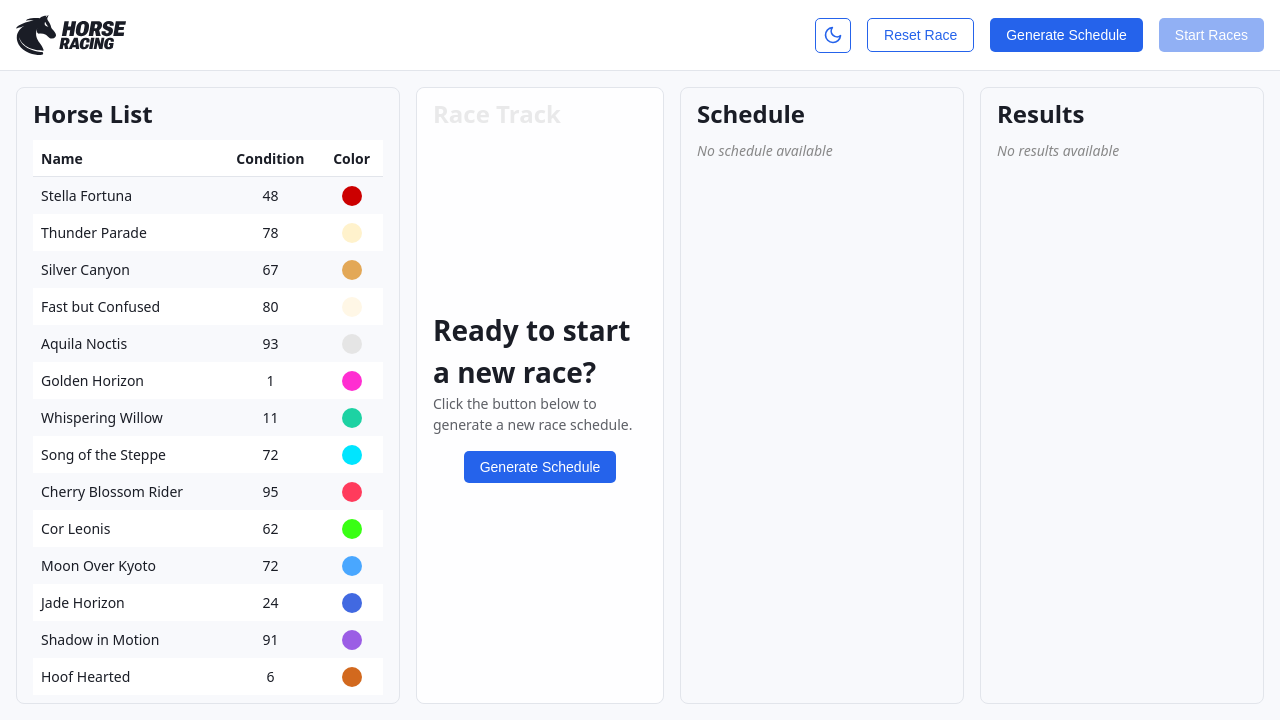
Schedule Generation › generates schedule when clicking generate button
The image size is (1280, 720).
Click the 1st button "Generate Schedule" at coordinates (1067, 35), box [990, 18, 1143, 52]
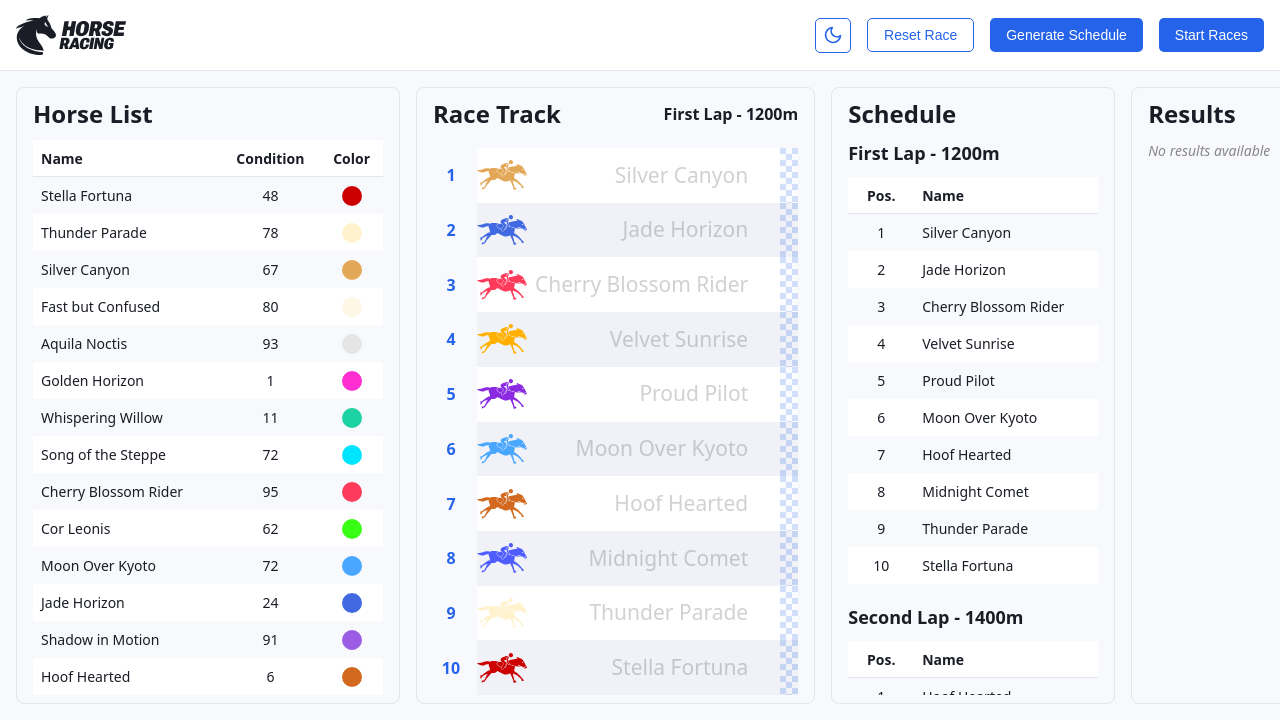
Expected: the text "First Lap" is shown, [664, 103, 799, 125]
Expected: the heading "Second Lap - 1400m" is shown, [848, 605, 1024, 629]
